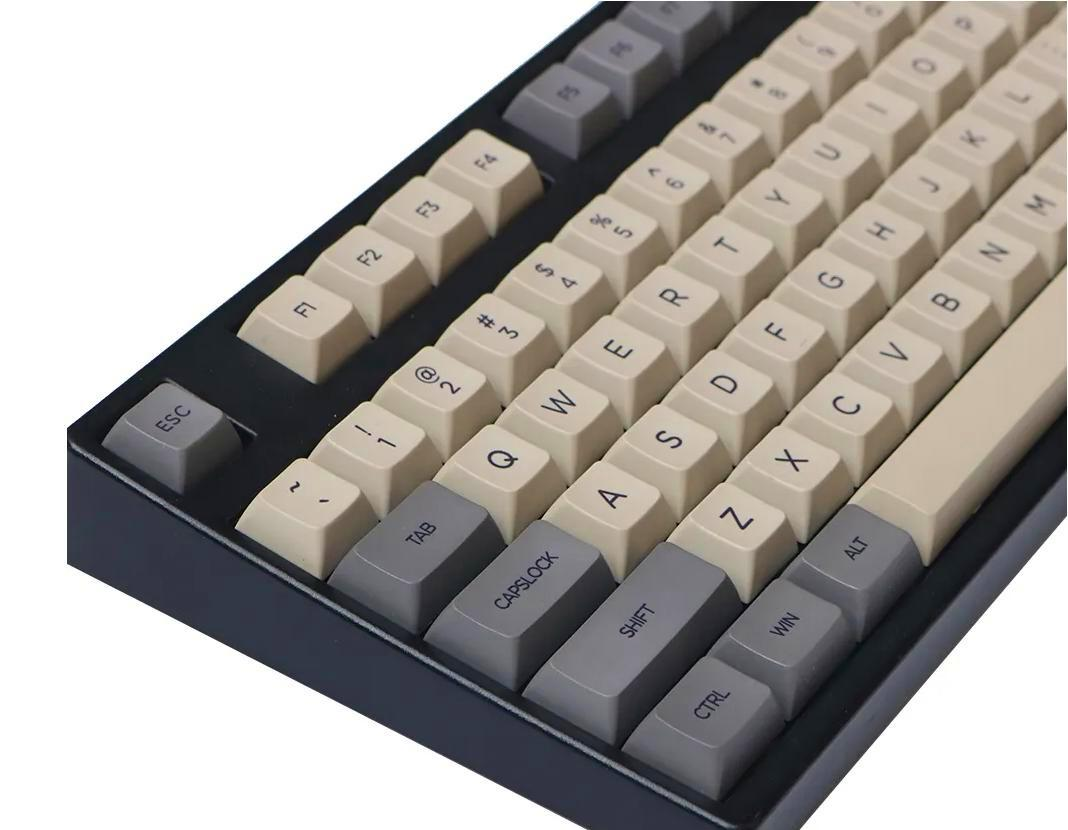1: (529, 383, 599, 434)
4: (695, 359, 750, 407)
9: (860, 337, 920, 393)
aaaaa: (716, 163, 816, 235)
